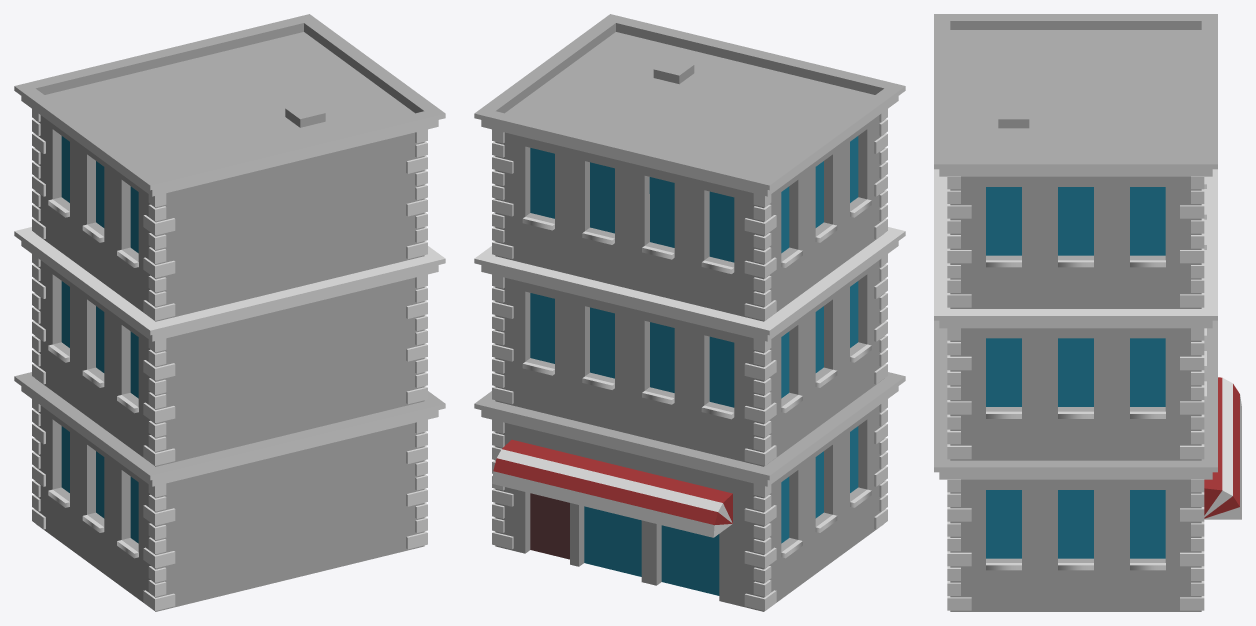
The model's file is house03.fbx.
The picture shows the model from 3 angles, left to right: view 1: azimuth 30°, elevation 25°; view 2: azimuth 150°, elevation 25°; view 3: azimuth 270°, elevation 25°; orthographic projection. The views are drawn at different scales.
Visible parts, largest first — view 1: _house03; view 2: _house03; view 3: _house03.
Boxes of the visible parts, x1,y1,x2,y2 form: _house03: [14, 14, 445, 611]; _house03: [474, 14, 905, 611]; _house03: [934, 14, 1241, 611].
Size of the model in its own units: 660 by 930 by 571.
